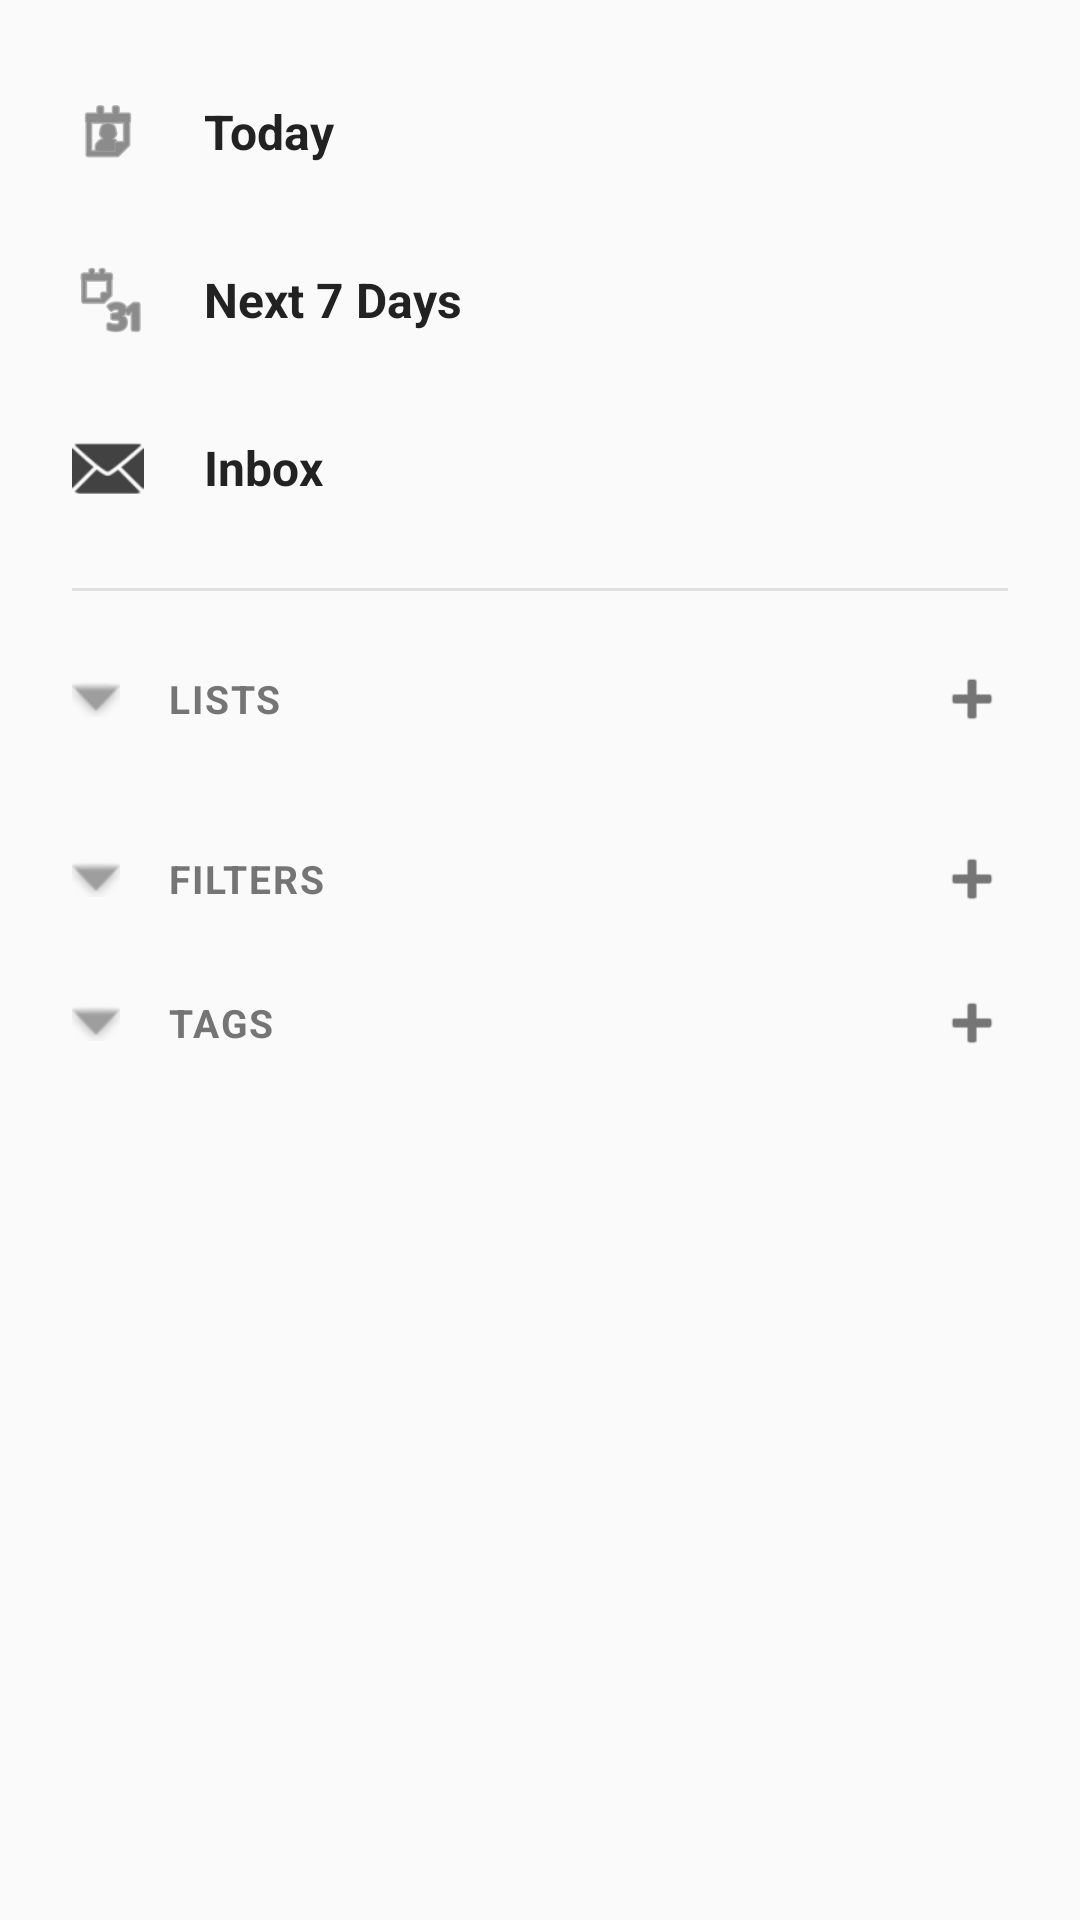

Screen size 1080*1920. Icon name, then its box in pixels as (x1, y1, x2, y2):
add: (952, 679, 992, 719), (952, 859, 992, 899), (952, 1003, 992, 1043)
arrow down float: (72, 685, 120, 712), (72, 865, 120, 892), (72, 1009, 120, 1036)
calendar: (85, 105, 131, 158)
email: (72, 443, 144, 494)
month: (80, 268, 141, 332)
